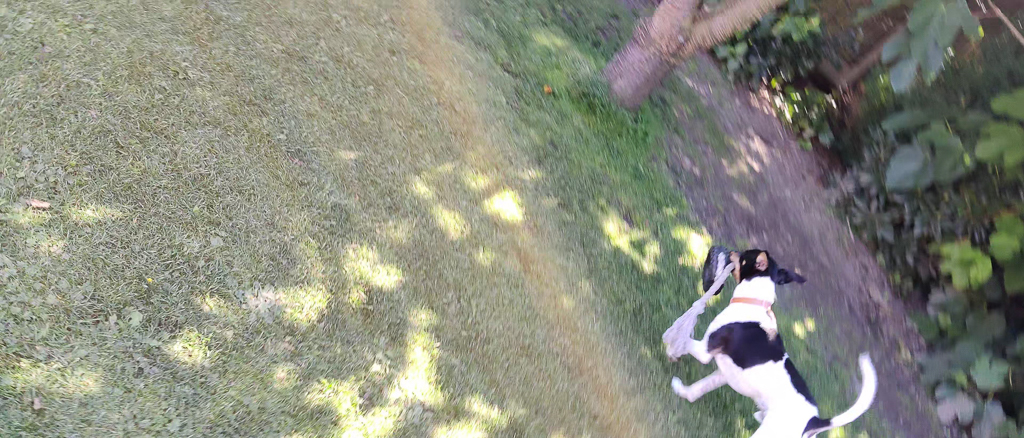Dog: (651, 238, 887, 438)
